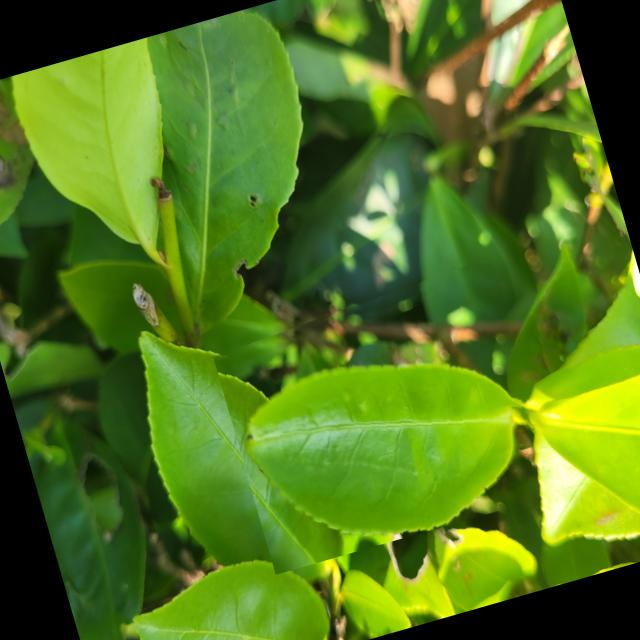Catagory A(1-2 days): (207, 258, 555, 574)
